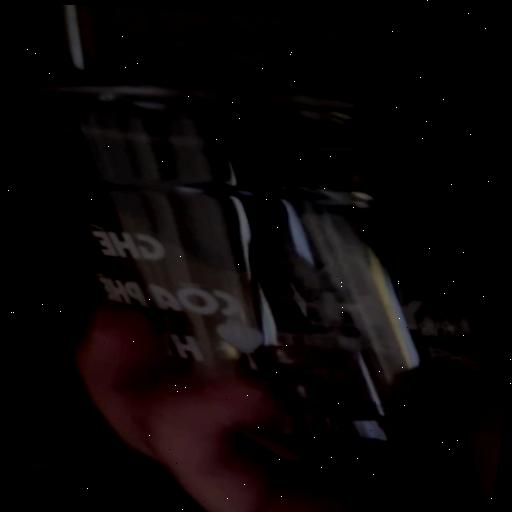ly_giay: (23, 83, 485, 441)
